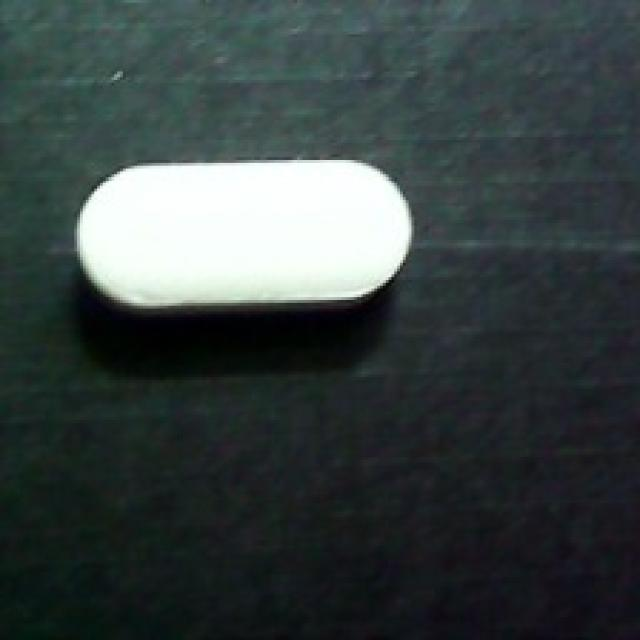no-defect: (74, 154, 423, 329)
